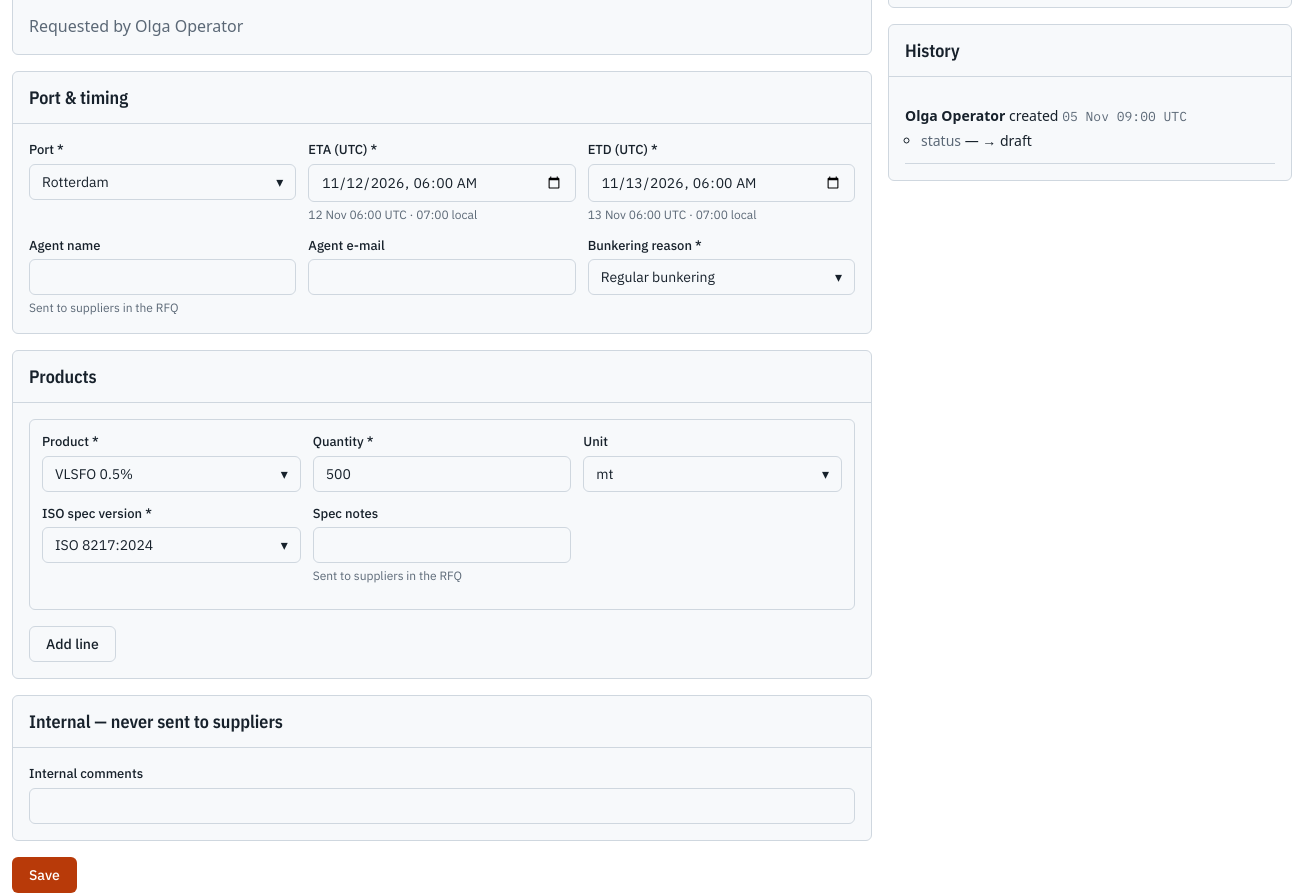
Test: InquiryPage errors › [B2-R13] a 403 on save says the role may not change the record
The width and height of the screenshot is (1292, 893).
(page scrolled)
Click the button "Save" at x=44, y=874, box [12, 856, 77, 892]
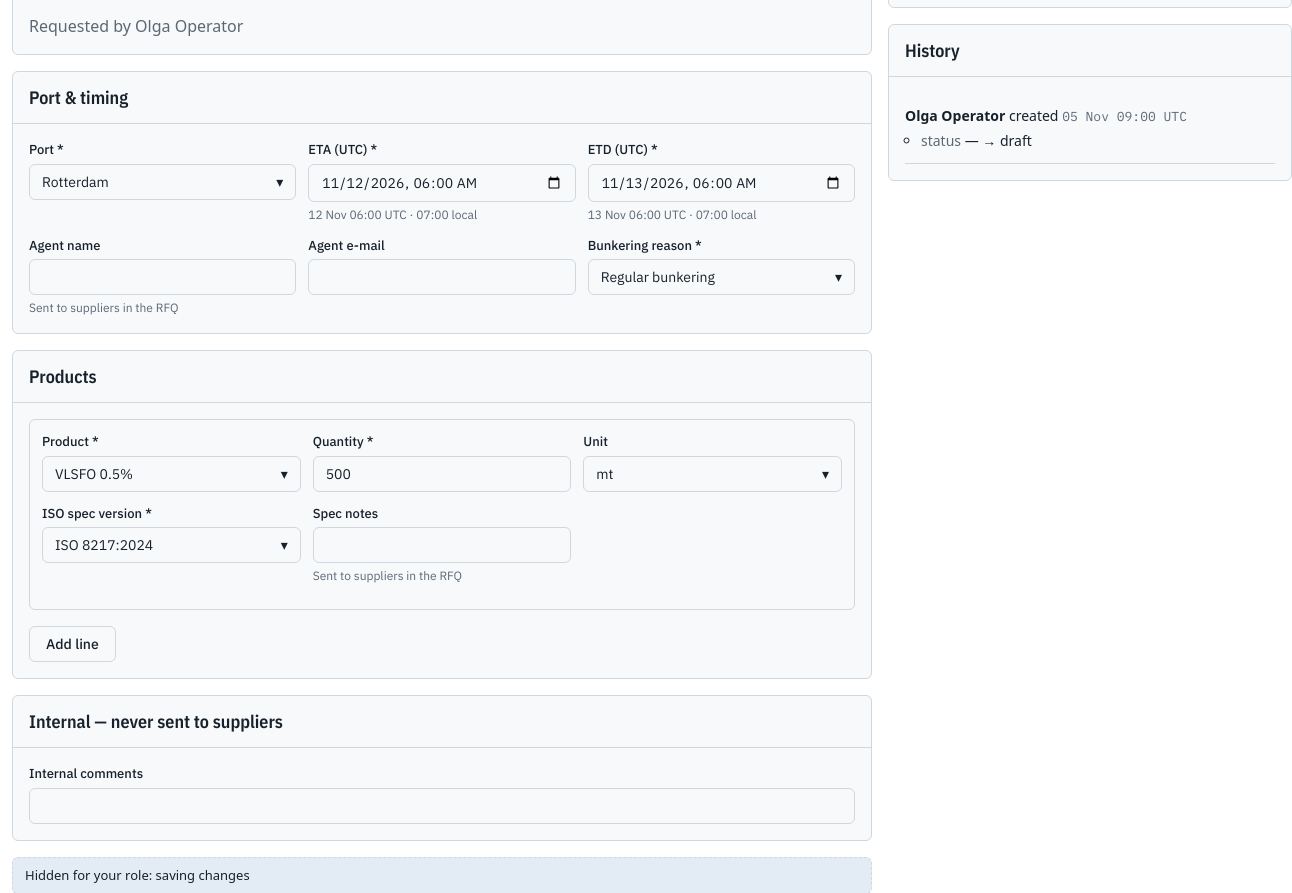
Now the text "Hidden for your role: saving changes" is shown, box [12, 856, 872, 892]
